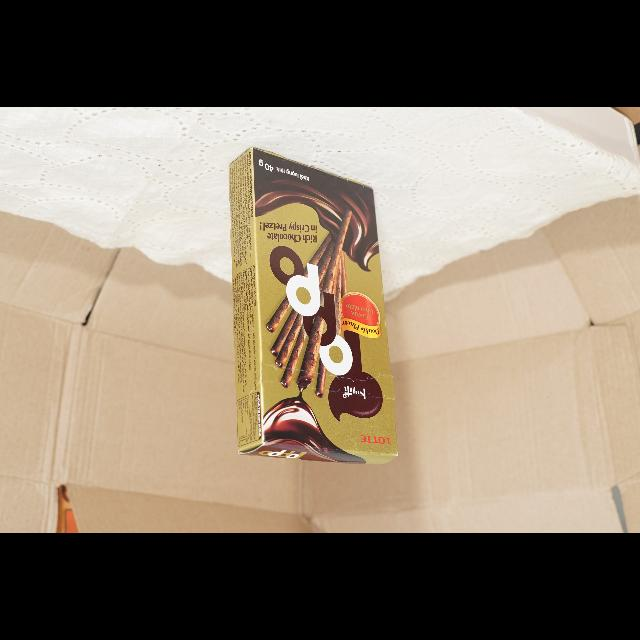banh_toppo_socola: (230, 148, 397, 464)
